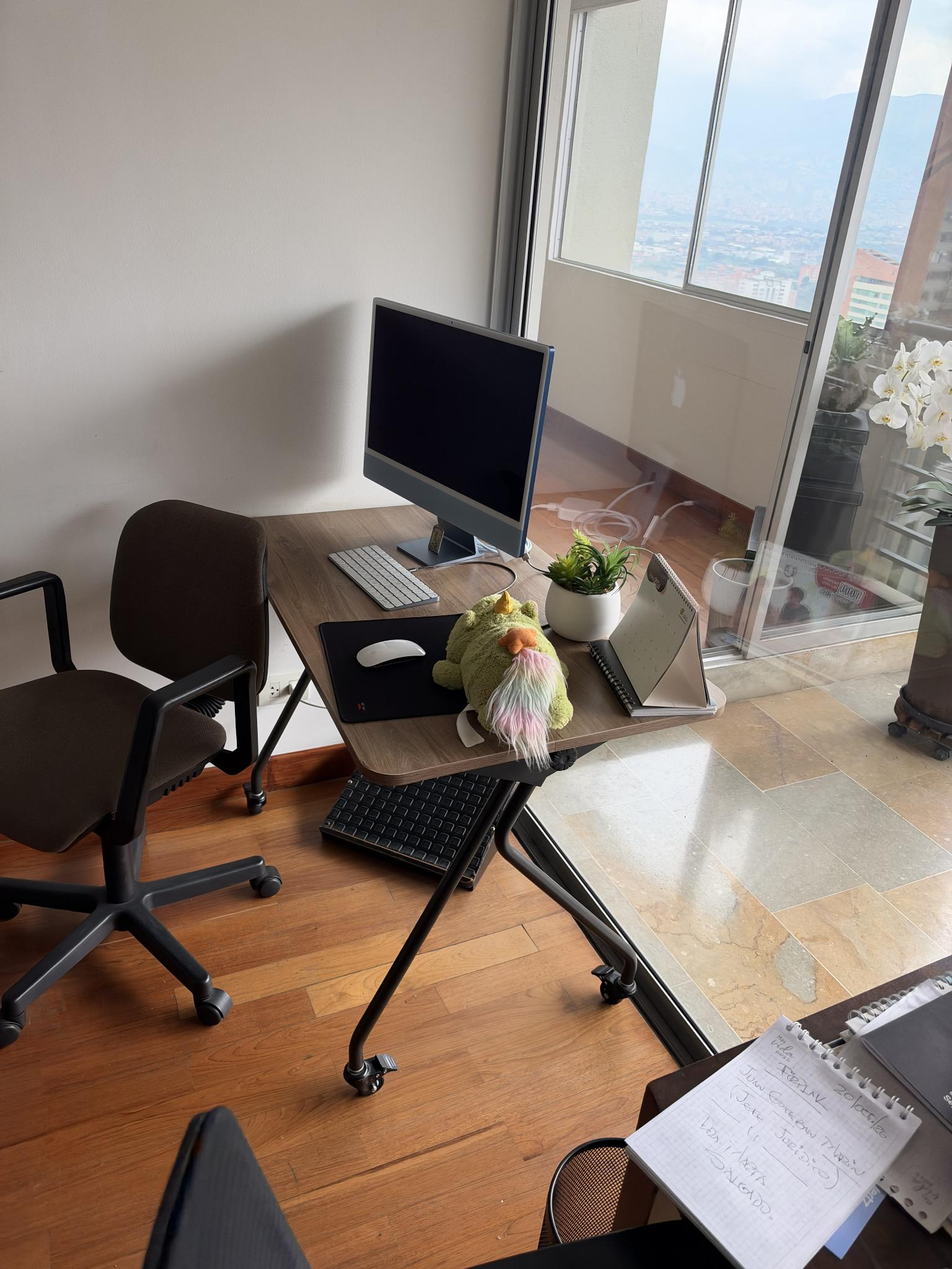peluche_martin: (431, 589, 574, 771)
